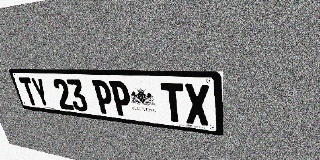2: (52, 78, 74, 110)
3: (66, 79, 89, 112)
P: (109, 81, 133, 117), (92, 80, 115, 115)
T: (160, 83, 186, 123), (18, 77, 39, 106)
X: (184, 83, 210, 126)
Y: (30, 78, 51, 108)
